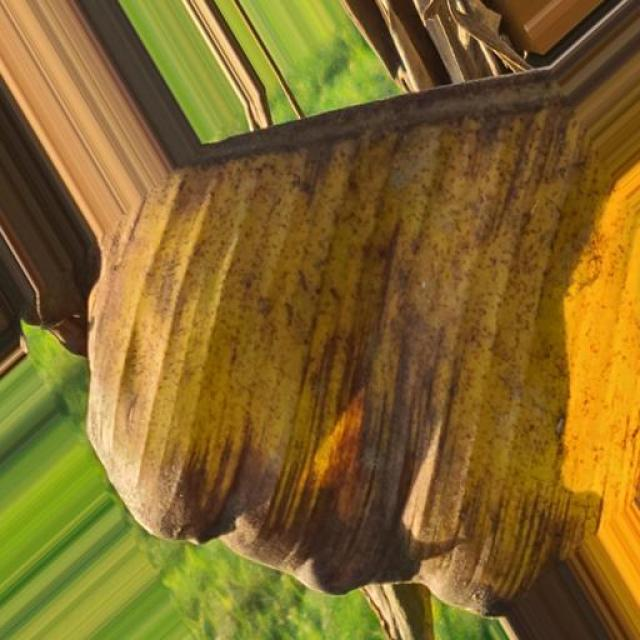Cordana: (35, 0, 640, 614)
